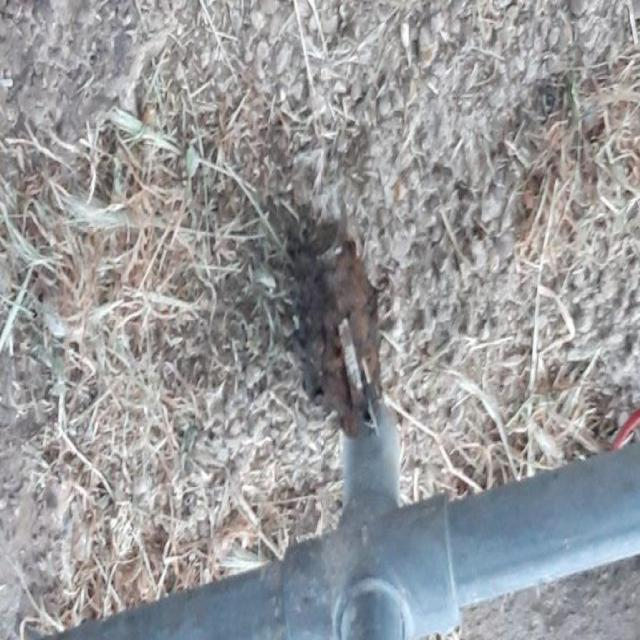grenade: (295, 220, 384, 441)
